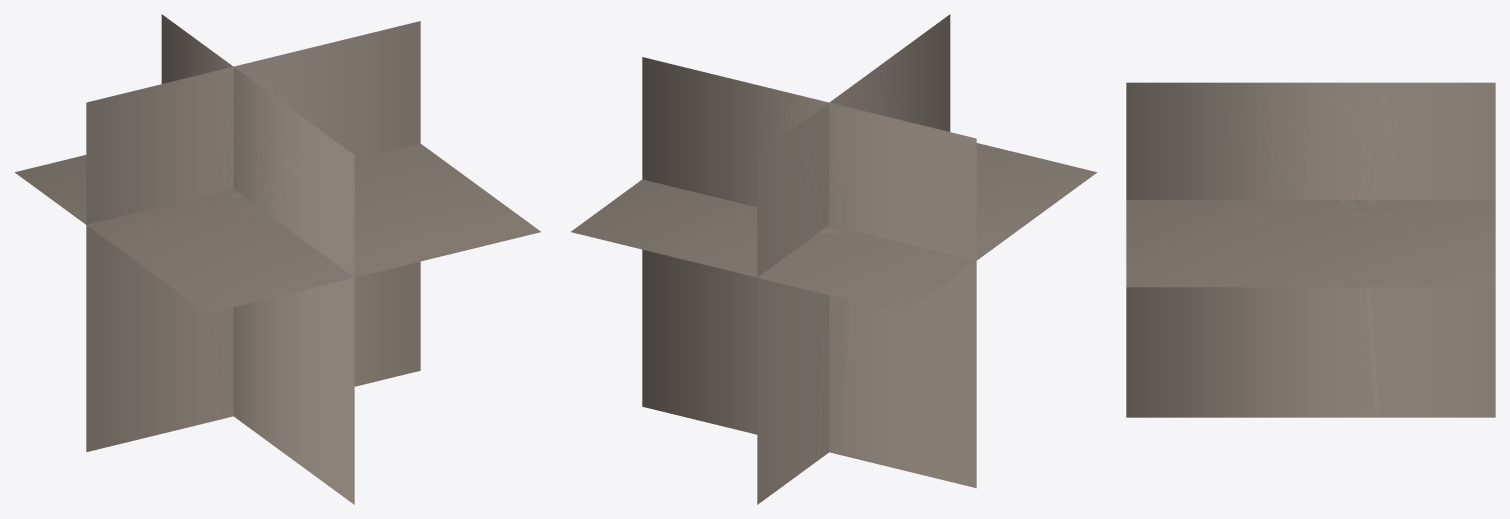
File: dead_tree_2_far.glb
The picture shows the model from 3 angles, left to right: view 1: azimuth 30°, elevation 25°; view 2: azimuth 150°, elevation 25°; view 3: azimuth 270°, elevation 25°; orthographic projection. The views are drawn at different scales.
Parts seen in each view (by area): view 1: dead_tree_2_far; view 2: dead_tree_2_far; view 3: dead_tree_2_far.
Part boxes in pixels (bbox=[...]): dead_tree_2_far: bbox=[15, 14, 540, 504]; dead_tree_2_far: bbox=[571, 14, 1096, 504]; dead_tree_2_far: bbox=[1126, 82, 1495, 417].
Size of the model in its own units: 6.39 by 6.39 by 6.39.
Materials: 1 (1 with a texture image).
